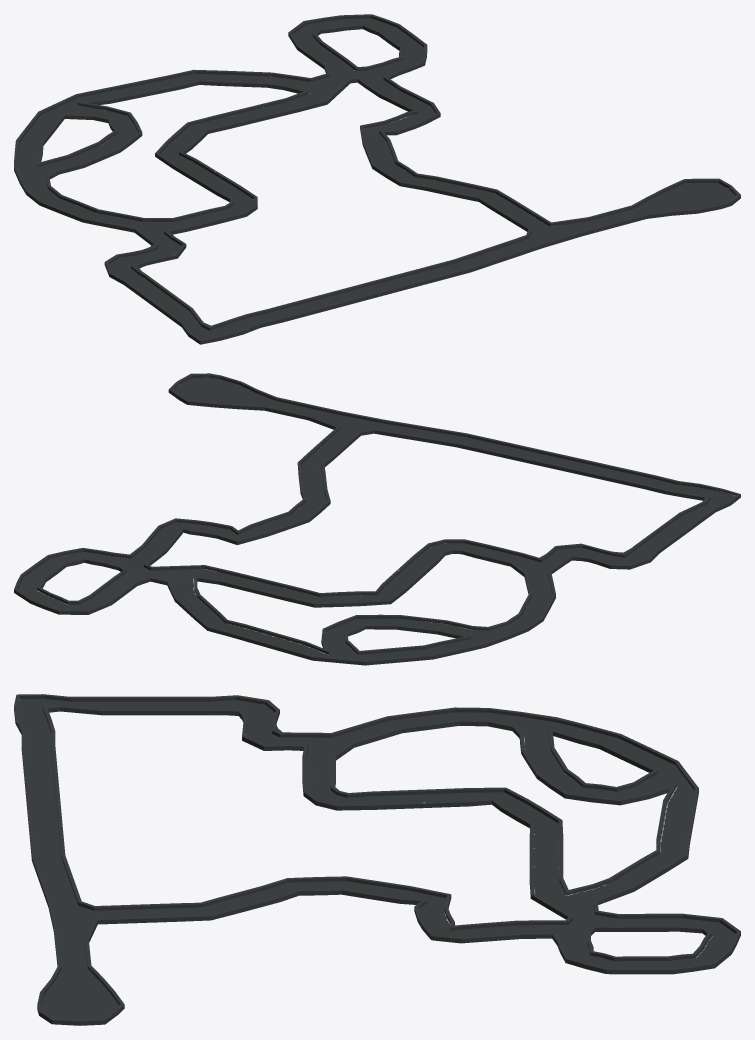
The model's file is RoadTerrain.fbx.
3 renders of one model, top to bottom at view 1: azimuth 30°, elevation 25°; view 2: azimuth 150°, elevation 25°; view 3: azimuth 270°, elevation 25°, orthographic. The views are drawn at different scales.
Visible parts, largest first — view 1: RoadSidewalks.002; view 2: RoadSidewalks.002; view 3: RoadSidewalks.002.
Boxes of the visible parts, x1=… form: RoadSidewalks.002: x1=14, y1=14, x2=740, y2=344; RoadSidewalks.002: x1=14, y1=373, x2=740, y2=665; RoadSidewalks.002: x1=14, y1=694, x2=740, y2=1025.
Bounding box in the file's own units: 17332 × 157 × 16263.
